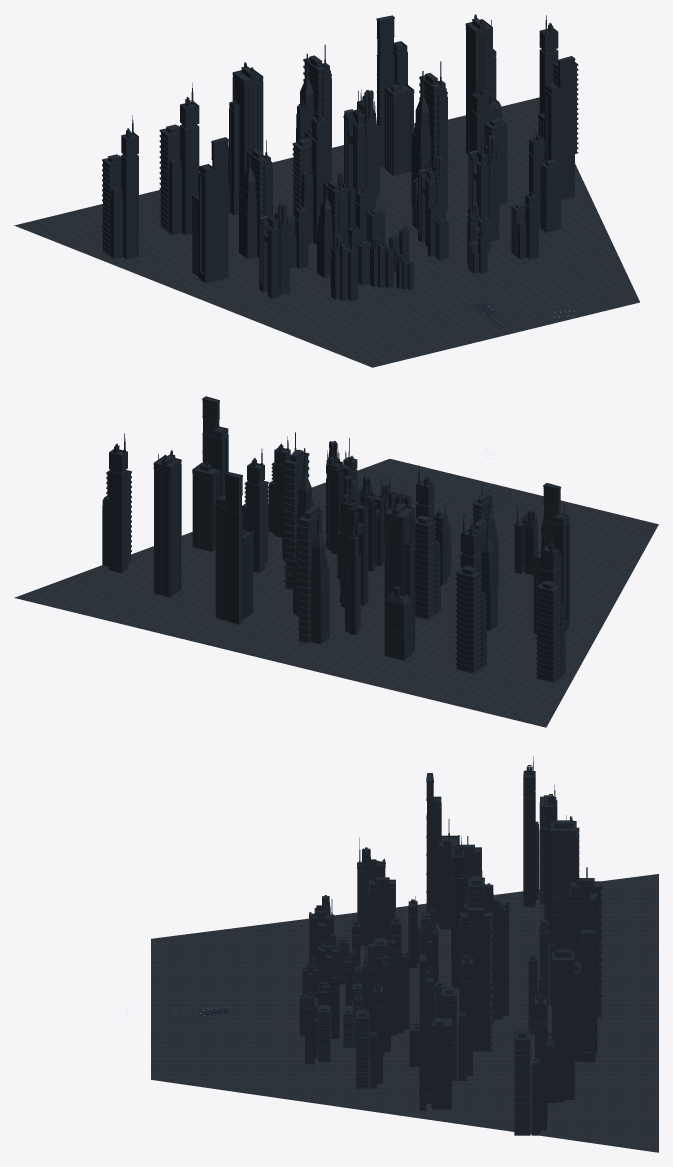
Rendered from DistrictAdditions.glb.
3 views of the same model, one above another, from view 1: azimuth 30°, elevation 25°; view 2: azimuth 150°, elevation 25°; view 3: azimuth 270°, elevation 25° (orthographic). The views are drawn at different scales.
Parts seen in each view (by area): view 1: DISTRICT_Ground_Continuation, DISTRICT_Background_22, DISTRICT_Background_11, DISTRICT_Background_19, DISTRICT_Background_18, DISTRICT_Background_20, DISTRICT_Background_17, DISTRICT_Background_13, DISTRICT_Background_15, DISTRICT_Background_14, DISTRICT_Background_12, DISTRICT_Background_23 (+20 smaller); view 2: DISTRICT_Ground_Continuation, DISTRICT_Background_22, DISTRICT_Background_20, DISTRICT_Background_21, DISTRICT_Background_23, DISTRICT_Background_17, DISTRICT_Background_19, DISTRICT_Background_18, DISTRICT_Background_24, DISTRICT_Background_13, DISTRICT_Background_11, DISTRICT_Background_14 (+10 smaller); view 3: DISTRICT_Ground_Continuation, DISTRICT_Background_23, DISTRICT_Background_24, DISTRICT_Background_17, DISTRICT_Background_15, DISTRICT_Background_22, DISTRICT_Background_11, DISTRICT_Background_18, DISTRICT_Background_16, DISTRICT_Background_20, DISTRICT_Background_10, DISTRICT_Background_21 (+18 smaller).
Boxes of the visible parts, x1=… form: DISTRICT_Ground_Continuation: x1=14, y1=97, x2=639, y2=367; DISTRICT_Background_22: x1=376, y1=15, x2=414, y2=175; DISTRICT_Background_11: x1=192, y1=137, x2=229, y2=283; DISTRICT_Background_19: x1=159, y1=83, x2=199, y2=235; DISTRICT_Background_18: x1=102, y1=115, x2=138, y2=259; DISTRICT_Background_20: x1=228, y1=62, x2=263, y2=215; DISTRICT_Background_17: x1=538, y1=56, x2=575, y2=199; DISTRICT_Background_13: x1=292, y1=97, x2=329, y2=244; DISTRICT_Background_15: x1=411, y1=61, x2=447, y2=210; DISTRICT_Background_14: x1=343, y1=90, x2=376, y2=221; DISTRICT_Background_12: x1=239, y1=140, x2=272, y2=258; DISTRICT_Background_23: x1=465, y1=14, x2=501, y2=154; DISTRICT_Ground_Continuation: x1=14, y1=459, x2=658, y2=727; DISTRICT_Background_22: x1=215, y1=471, x2=253, y2=624; DISTRICT_Background_20: x1=384, y1=498, x2=415, y2=660; DISTRICT_Background_21: x1=298, y1=490, x2=329, y2=644; DISTRICT_Background_23: x1=153, y1=450, x2=181, y2=597; DISTRICT_Background_17: x1=192, y1=396, x2=228, y2=551; DISTRICT_Background_19: x1=455, y1=513, x2=486, y2=673; DISTRICT_Background_18: x1=536, y1=531, x2=565, y2=682; DISTRICT_Background_24: x1=102, y1=433, x2=131, y2=573; DISTRICT_Background_13: x1=415, y1=465, x2=440, y2=619; DISTRICT_Background_11: x1=533, y1=483, x2=569, y2=634; DISTRICT_Background_14: x1=340, y1=471, x2=368, y2=607; DISTRICT_Ground_Continuation: x1=151, y1=874, x2=658, y2=1152; DISTRICT_Background_23: x1=547, y1=945, x2=574, y2=1102; DISTRICT_Background_24: x1=514, y1=978, x2=547, y2=1135; DISTRICT_Background_17: x1=419, y1=953, x2=451, y2=1110; DISTRICT_Background_15: x1=459, y1=894, x2=492, y2=1051; DISTRICT_Background_22: x1=573, y1=892, x2=597, y2=1062; DISTRICT_Background_11: x1=426, y1=773, x2=458, y2=929; DISTRICT_Background_18: x1=523, y1=756, x2=556, y2=906; DISTRICT_Background_16: x1=441, y1=941, x2=472, y2=1080; DISTRICT_Background_20: x1=551, y1=815, x2=576, y2=949; DISTRICT_Background_10: x1=355, y1=976, x2=382, y2=1088; DISTRICT_Background_21: x1=569, y1=865, x2=602, y2=1017.
Size of the model in its own units: 360 by 95.01 by 352.
21 materials, 1 textured.
